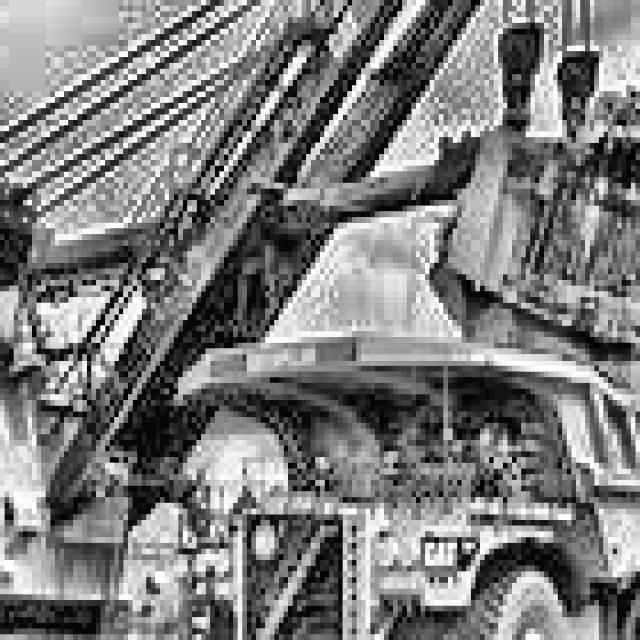dump_truck: (178, 325, 639, 640)
